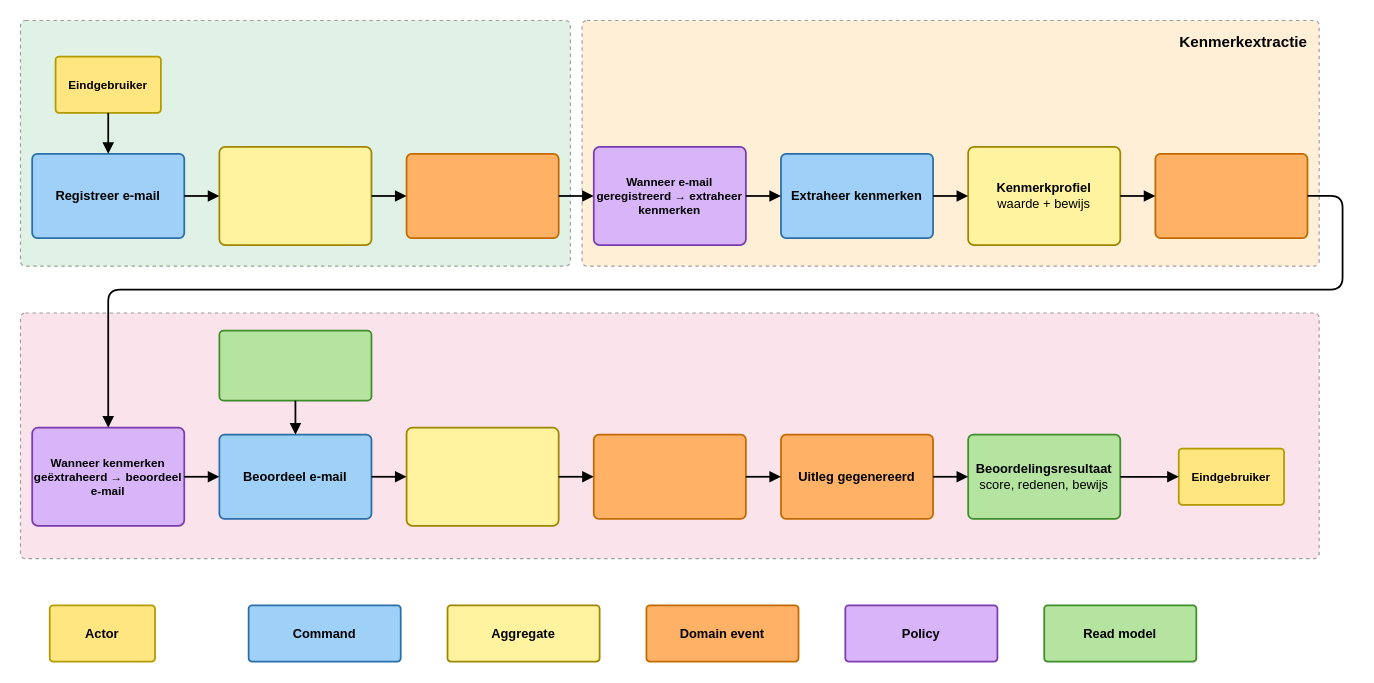
The diagram is 1374 pixels wide and 683 high, and some of its shapes have lost their labels. The shapes that lost their labels are listed below. From the top down, each one's box as (x1, y1, x2, y2) in pixels, then its label:
(19, 19, 570, 266): Intake
(218, 145, 372, 245): Email
(405, 152, 559, 238): E-mail geregistreerd
(1154, 152, 1308, 238): Kenmerken geëxtraheerd
(218, 329, 372, 401): Getraind model
(19, 312, 1319, 559): Beoordeling & Uitleg
(405, 426, 559, 526): Beoordeling score + uitleg
(592, 433, 746, 519): Risicoscore berekend
